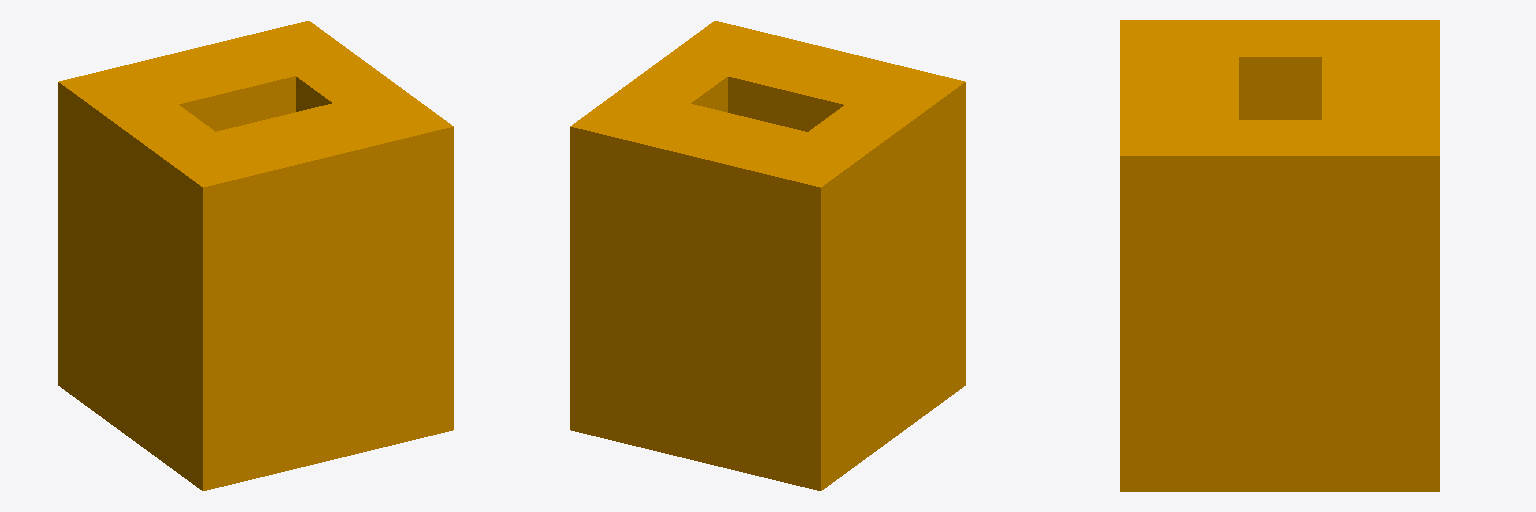
The robot description file, URDF, robot "usb_place":
<?xml version="1.0"?>
<robot name="usb_place">
  <link name="usb_place">
    <visual>
      <origin xyz="0.0 0.0 0.0"/>
      <geometry>
        <mesh filename="./obj-and-urdf/usb_head_place_150.obj" scale="1 1 1"/>
      </geometry>
    </visual>
    <collision>
      <origin xyz="0.0 0.0 0.0"/>
      <geometry>
        <mesh filename="./obj-and-urdf/usb_head_place_150_vhacd.obj" scale="1 1 1"/>
      </geometry>
    </collision>
  </link>
</robot>

--- Facts derived from the render (not from the file) ---
The picture shows the robot from 3 angles, left to right: view 1: azimuth 30°, elevation 25°; view 2: azimuth 150°, elevation 25°; view 3: azimuth 270°, elevation 25°; orthographic projection.
Model usb_place with 1 links and 0 joints (none), rooted at usb_place, posed all joints at 0.
Visible links, largest first — view 1: usb_place; view 2: usb_place; view 3: usb_place.
Boxes of the visible links, x1,y1,x2,y2 form: usb_place: (58, 21, 453, 490); usb_place: (570, 21, 965, 490); usb_place: (1120, 20, 1439, 491).
Size in the robot's own frame: 0.0432 by 0.0432 by 0.05 metres.
Meshes: 1 distinct files referenced, 1 mesh visuals loaded (1 OBJ).